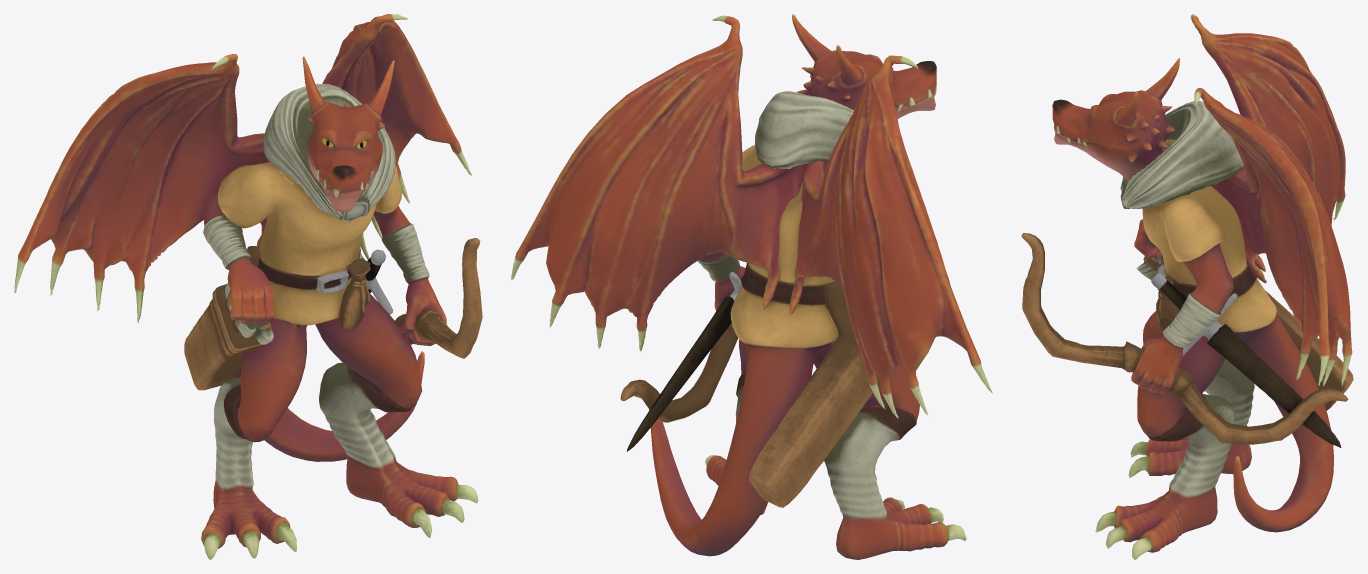
The model's file is MZ4250 - Winged Kobold Ranger.glb.
3 renders of one model, left to right at view 1: azimuth 30°, elevation 25°; view 2: azimuth 150°, elevation 25°; view 3: azimuth 270°, elevation 25°, orthographic. The views are drawn at different scales.
Parts seen in each view (by area): view 1: Body.004; view 2: Body.004; view 3: Body.004.
Boxes of the visible parts, <box> form: Body.004: <box>14,14,482,559</box>; Body.004: <box>511,14,992,559</box>; Body.004: <box>1021,14,1353,559</box>.
Bounding box in the file's own units: 27.33 × 27.14 × 18.23.
5 materials, 5 textured.
